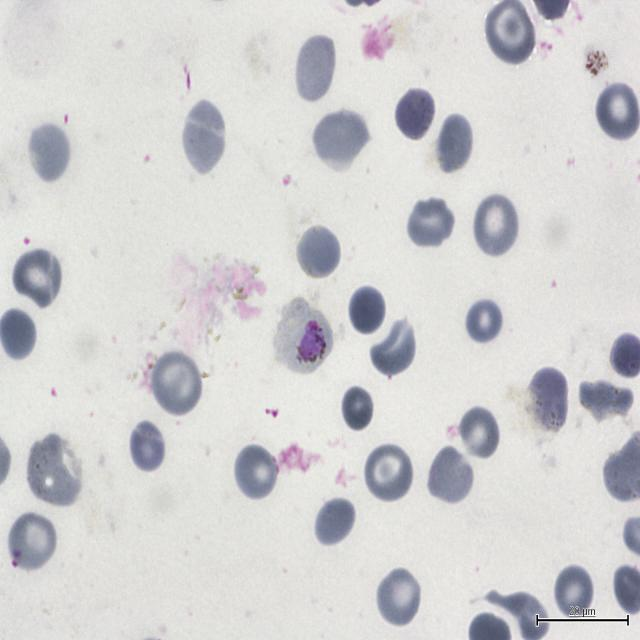difficult: (274, 298, 332, 376)
red blood cell: (25, 434, 83, 506), (150, 348, 202, 416), (484, 0, 536, 68), (471, 190, 521, 260), (182, 98, 228, 173), (292, 32, 338, 105), (312, 108, 368, 167), (363, 441, 414, 504), (12, 245, 62, 309), (8, 509, 58, 573), (426, 443, 475, 507), (524, 365, 569, 434), (369, 316, 418, 379), (375, 566, 423, 629), (594, 81, 640, 143), (406, 194, 456, 251), (27, 120, 72, 183), (574, 378, 636, 423), (233, 442, 279, 502), (294, 223, 342, 280), (434, 111, 474, 176), (553, 563, 596, 622), (457, 404, 501, 461), (394, 85, 437, 142), (313, 494, 356, 550), (128, 418, 166, 474), (464, 294, 504, 347), (343, 280, 384, 330), (339, 383, 375, 433)
